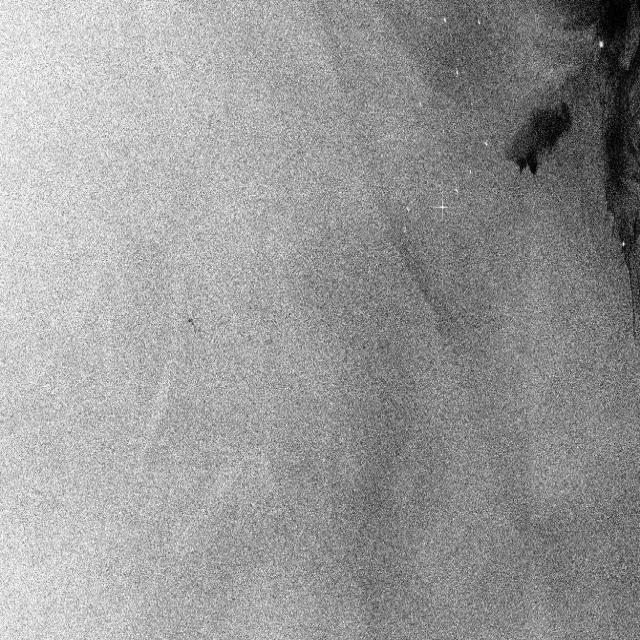look-alike: (582, 4, 640, 335), (506, 89, 574, 194)
oil-spill: (184, 310, 200, 342)
ship: (399, 198, 414, 241), (435, 192, 452, 226), (441, 11, 454, 31), (472, 17, 485, 35), (454, 173, 462, 201), (468, 92, 478, 113), (415, 95, 425, 114), (465, 162, 474, 179), (481, 136, 491, 151), (453, 59, 461, 77)
